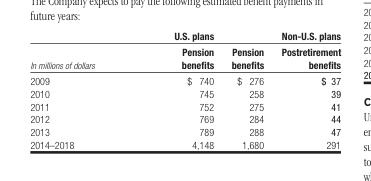table: (29, 29, 340, 149)
table column: (29, 29, 133, 149), (133, 29, 221, 149), (271, 29, 340, 149), (221, 29, 271, 149)
table column header: (29, 29, 340, 72)
table row: (29, 43, 340, 72), (29, 72, 340, 87), (29, 29, 340, 43), (29, 99, 340, 112), (29, 112, 340, 125), (29, 87, 340, 99), (29, 125, 340, 137), (29, 137, 340, 149)
table spanning cell: (29, 29, 133, 72), (133, 29, 221, 72), (221, 29, 340, 43)
